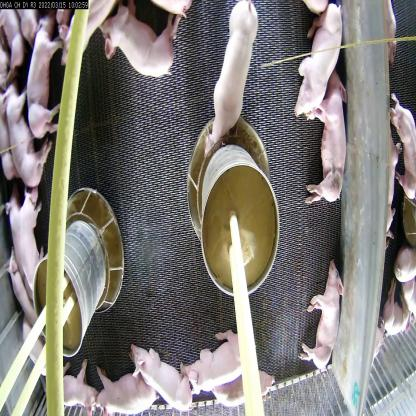Pig: (210, 0, 262, 144), (104, 0, 181, 71), (312, 79, 354, 208), (306, 264, 348, 386), (133, 339, 200, 415), (301, 15, 346, 127), (194, 328, 253, 402), (27, 24, 60, 140), (215, 365, 285, 415), (6, 183, 42, 280), (53, 0, 115, 55), (385, 82, 415, 179), (101, 366, 156, 416), (9, 94, 39, 173), (54, 364, 94, 414), (384, 288, 411, 340), (402, 249, 416, 313)
